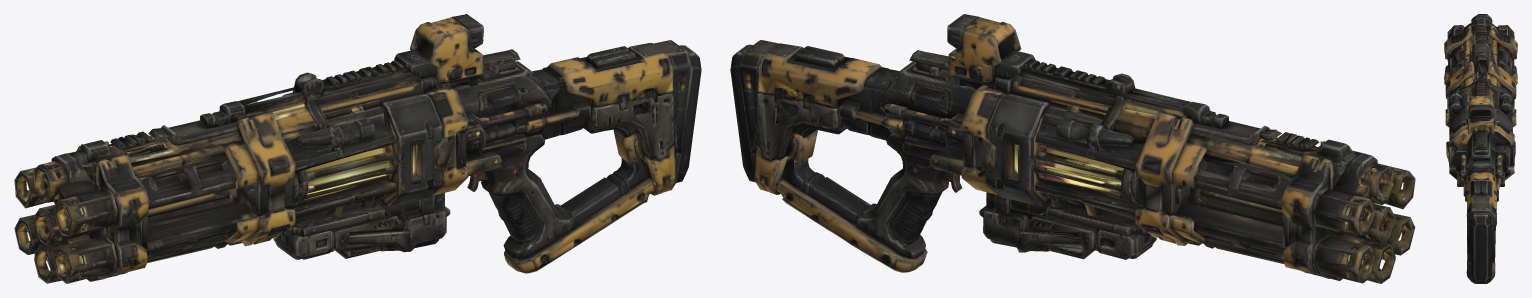
Rendered from cannon-meshy-v1.glb.
3 views of the same model, side by side, from view 1: azimuth 30°, elevation 25°; view 2: azimuth 150°, elevation 25°; view 3: azimuth 270°, elevation 25° (orthographic). The views are drawn at different scales.
Bounding box in the file's own units: 0.9536 × 0.3652 × 0.1626.
1 material, 1 textured.
